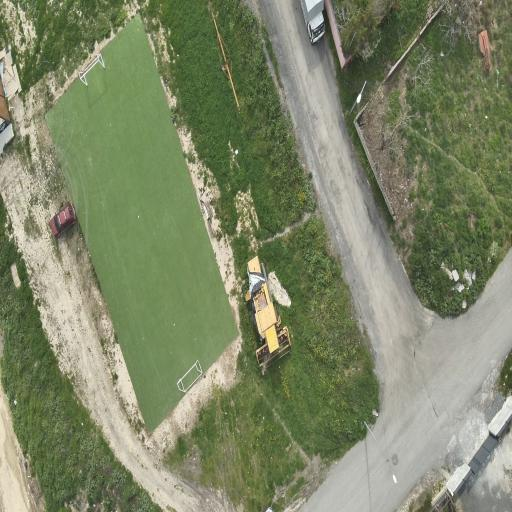car: (300, 0, 325, 44), (50, 203, 76, 237)
harvester: (246, 256, 290, 373)
